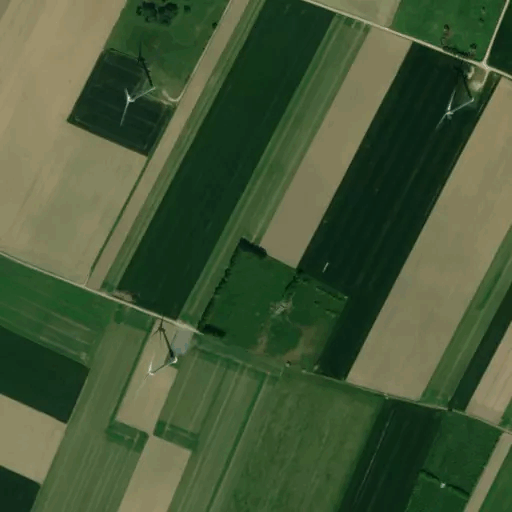wt: (111, 38, 168, 131), (432, 45, 484, 134), (136, 312, 183, 384)
